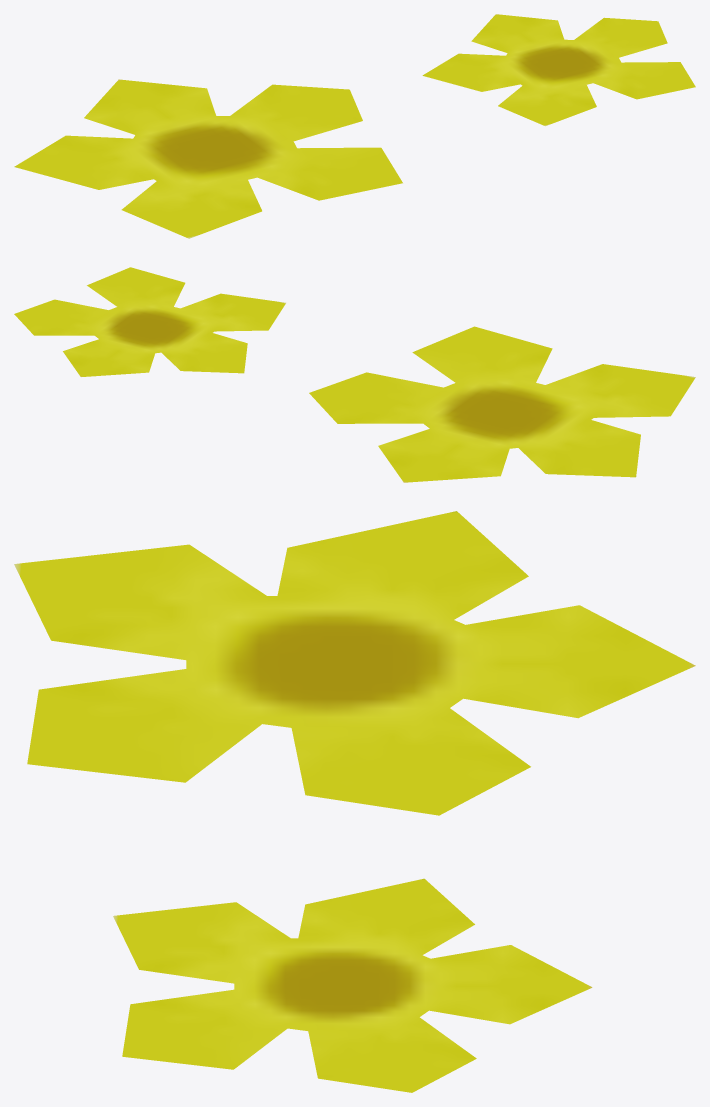
The model's file is rc_01_plt_07_02.FBX.
3 views of the same model, one above another, from view 1: azimuth 30°, elevation 25°; view 2: azimuth 150°, elevation 25°; view 3: azimuth 270°, elevation 25° (orthographic). The views are drawn at different scales.
Parts seen in each view (by area): view 1: Plane002, Plane003; view 2: Plane002, Plane003; view 3: Plane002, Plane003.
Part boxes in pixels (x1=…): Plane002: x1=14, y1=79, x2=402, y2=238; Plane003: x1=422, y1=14, x2=695, y2=126; Plane002: x1=309, y1=326, x2=695, y2=482; Plane003: x1=14, y1=267, x2=285, y2=376; Plane002: x1=14, y1=511, x2=695, y2=815; Plane003: x1=113, y1=878, x2=592, y2=1092.
Size of the model in its own units: 88.73 by 4.41e-06 by 43.94.
